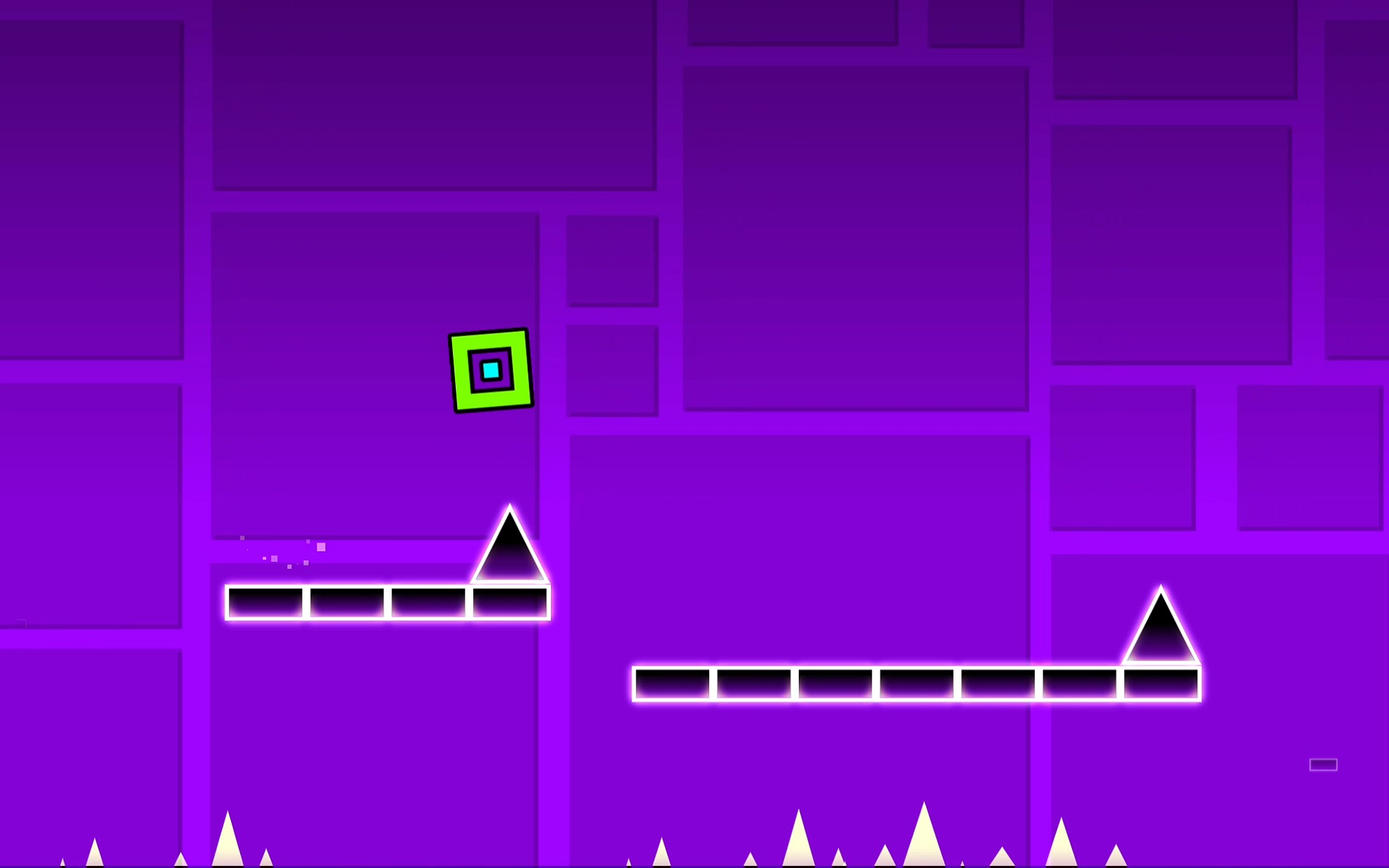Block3: (633, 666, 716, 700), (229, 585, 311, 619), (311, 585, 391, 618), (473, 585, 547, 619), (1125, 668, 1198, 699), (880, 667, 952, 697), (962, 668, 1034, 698), (718, 668, 789, 698), (392, 587, 464, 616), (799, 669, 870, 698), (1043, 670, 1116, 698)
Player: (452, 333, 535, 415)
Spike: (1121, 585, 1199, 665), (469, 505, 548, 581)
